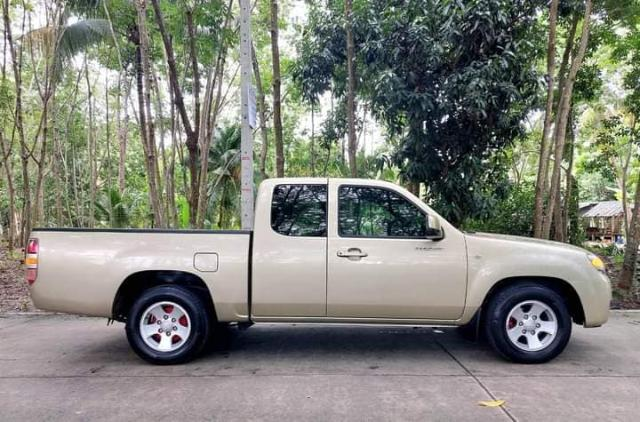pickup-truck: (22, 160, 625, 376)
